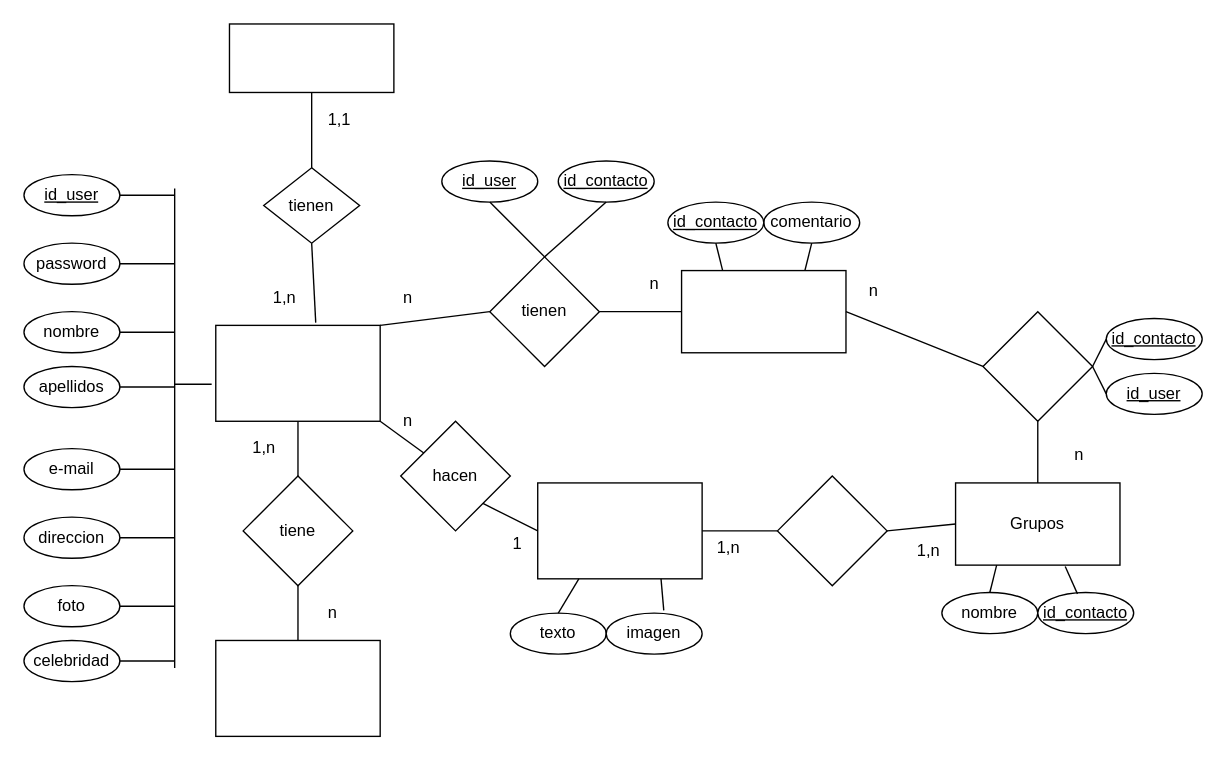
The diagram is 1226 pixels wide and 760 high, and some of its shapes have lost their labels. Each missing label, with the centre of its shape:
comentarios: [619,530]
Contactos: [763,311]
lista: [297,687]
pertenecen: [1037,365]
telefono: [311,57]
Usuarios: [297,372]
ven: [831,530]
